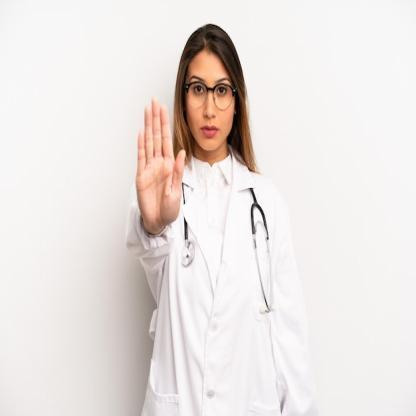stop: (134, 93, 187, 236)
